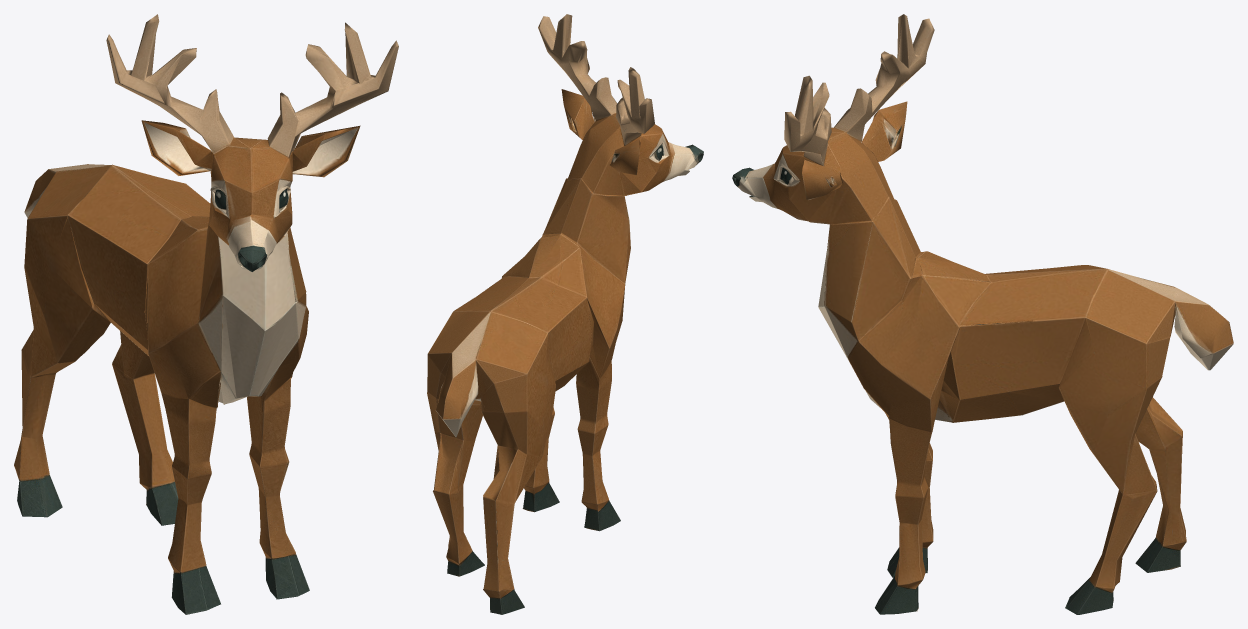
Rendered from AW-DEER-001-v0.2.glb.
3 renders of one model, left to right at view 1: azimuth 30°, elevation 25°; view 2: azimuth 150°, elevation 25°; view 3: azimuth 270°, elevation 25°, orthographic. The views are drawn at different scales.
Parts seen in each view (by area): view 1: AW-DEER-001_meter_ground_pivot; view 2: AW-DEER-001_meter_ground_pivot; view 3: AW-DEER-001_meter_ground_pivot.
Part boxes in pixels (box(x1,y1,x2,y2)): AW-DEER-001_meter_ground_pivot: box(14, 14, 398, 614); AW-DEER-001_meter_ground_pivot: box(427, 14, 703, 614); AW-DEER-001_meter_ground_pivot: box(732, 14, 1233, 614).
Bounding box in the file's own units: 0.9767 × 2.6 × 2.18.
Materials: 1 (1 with a texture image).
